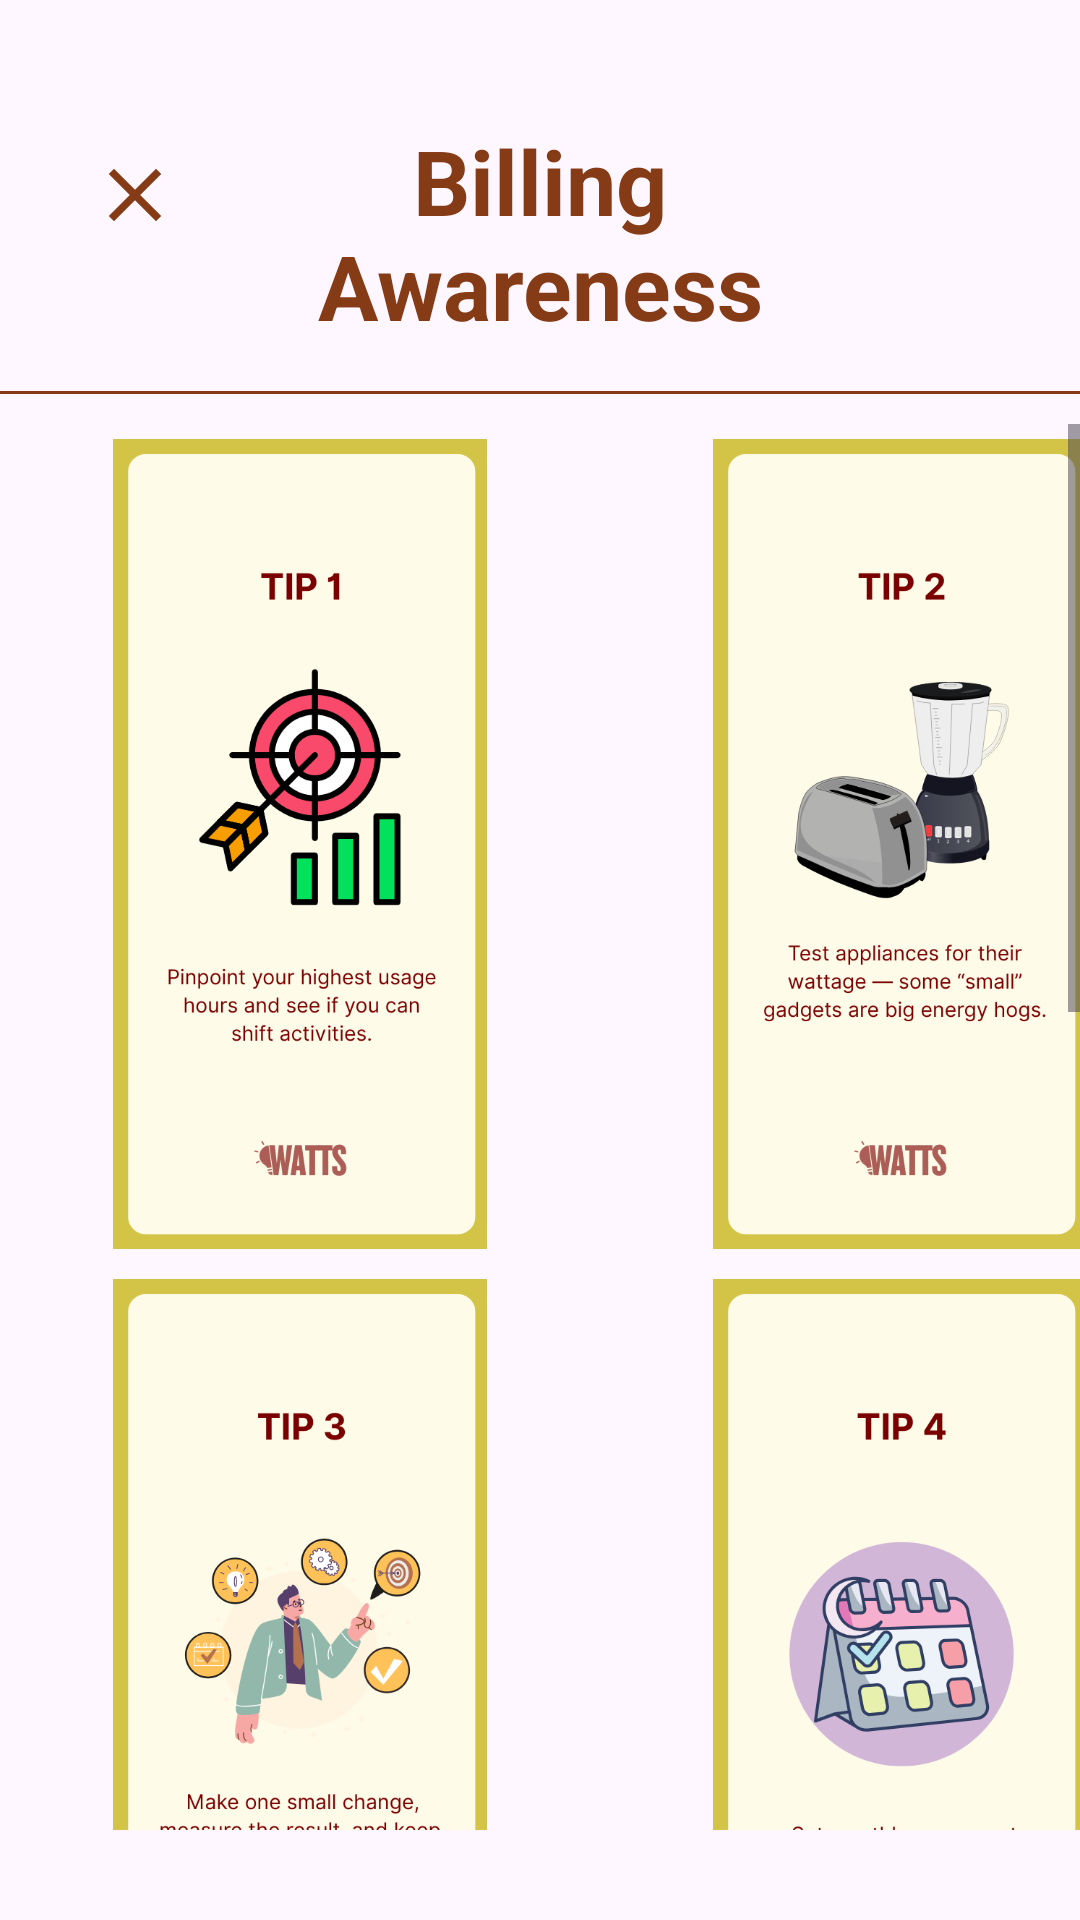

Where to tap for icons on this 1080 x 1920 app screen, as (x,y):
close: (135,195)
